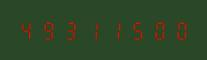five: (122, 20, 142, 40)
four: (17, 20, 37, 40)
nine: (38, 20, 58, 40)
one: (80, 20, 100, 40), (101, 20, 121, 40)
three: (59, 20, 79, 40)
zero: (143, 20, 163, 40), (164, 20, 184, 40)
